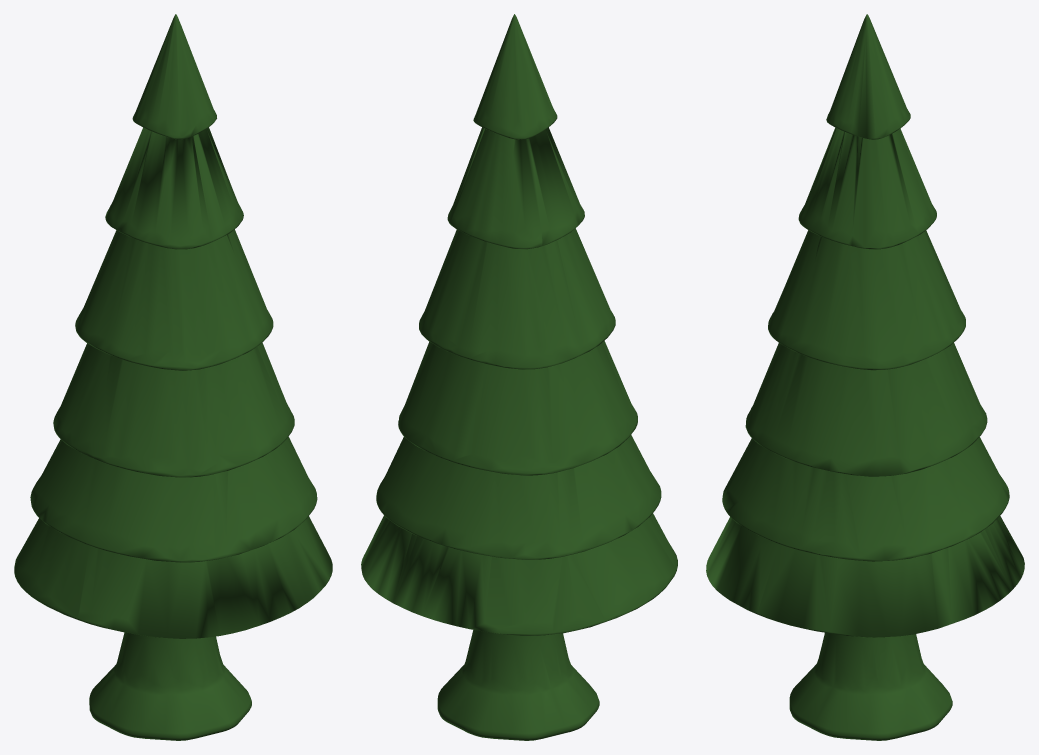
The model's file is PrettyTree.fbx.
The picture shows the model from 3 angles, left to right: view 1: azimuth 30°, elevation 25°; view 2: azimuth 150°, elevation 25°; view 3: azimuth 270°, elevation 25°; orthographic projection.
Parts seen in each view (by area): view 1: Cylinder; view 2: Cylinder; view 3: Cylinder.
Boxes of the visible parts, left/top/right/bottom form: Cylinder: left=14, top=14, right=332, bottom=740; Cylinder: left=361, top=14, right=677, bottom=740; Cylinder: left=706, top=14, right=1024, bottom=740.
Bounding box in the file's own units: 5.75 × 13.95 × 5.75.
